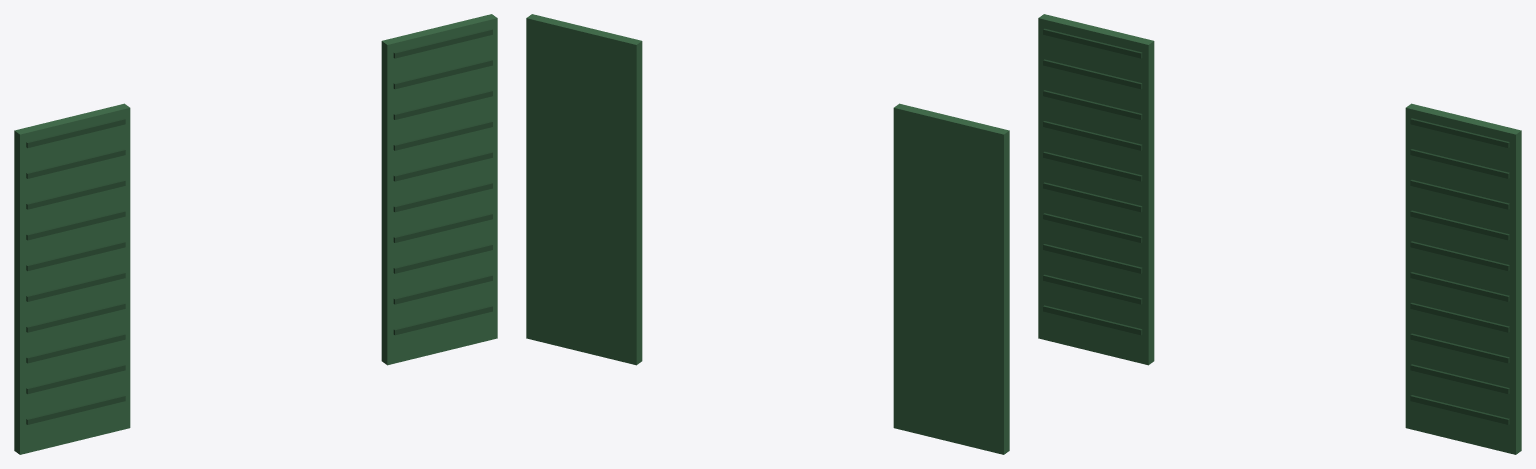
The model's file is window_shutters.glb.
The picture shows the model from 3 angles, left to right: view 1: azimuth 30°, elevation 25°; view 2: azimuth 150°, elevation 25°; view 3: azimuth 330°, elevation 25°; orthographic projection.
Parts seen in each view (by area): view 1: window_shutters; view 2: window_shutters; view 3: window_shutters.
Boxes of the visible parts, x1,y1,x2,y2 form: window_shutters: [14, 14, 497, 454]; window_shutters: [526, 14, 1009, 454]; window_shutters: [1038, 14, 1521, 454].
Bounding box in the file's own units: 1.95 × 1.25 × 0.05.
